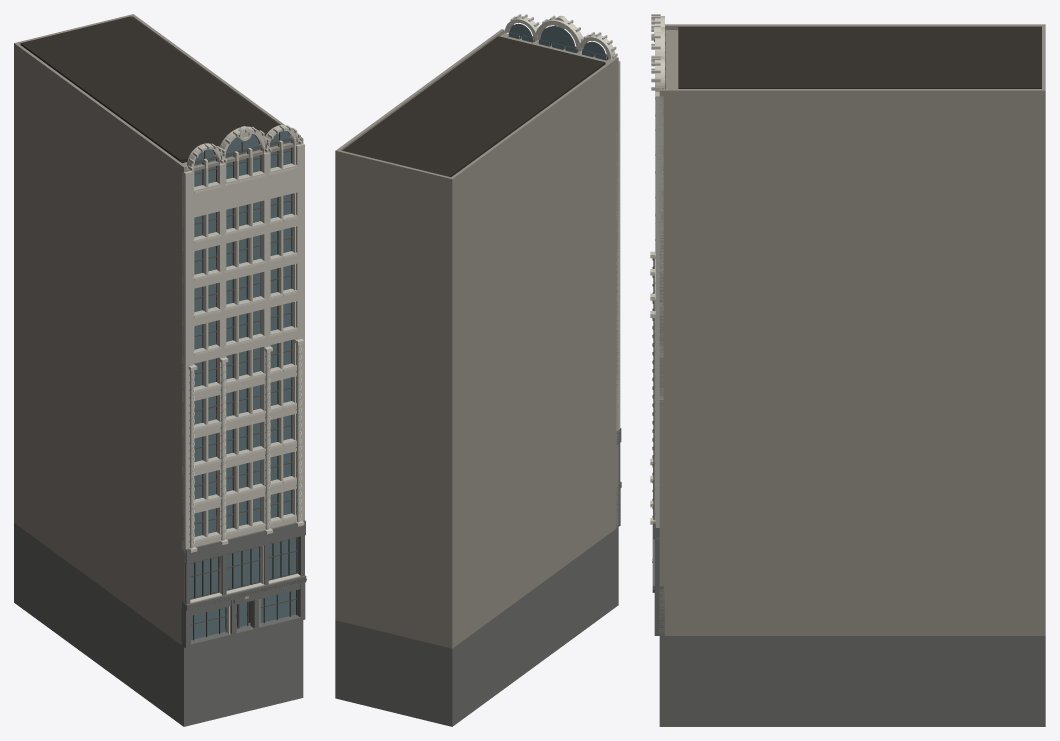
Rendered from equitable.glb.
The picture shows the model from 3 angles, left to right: view 1: azimuth 30°, elevation 25°; view 2: azimuth 150°, elevation 25°; view 3: azimuth 270°, elevation 25°; orthographic projection. The views are drawn at different scales.
Parts seen in each view (by area): view 1: Roof and party masonry, Dark ground level stone, Pale limestone facade and surrounds, Separate recessed window panes, Opaque recessed interior, Carved projecting stone trim, Dark bronze sashes and bank facade; view 2: Roof and party masonry, Dark ground level stone, Opaque recessed interior, Pale limestone facade and surrounds, Separate recessed window panes, Carved projecting stone trim; view 3: Roof and party masonry, Dark ground level stone, Opaque recessed interior, Pale limestone facade and surrounds, Carved projecting stone trim.
Part boxes in pixels (x1,y1,x2,y2): Roof and party masonry: (14,14,303,644); Dark ground level stone: (14,520,306,726); Pale limestone facade and surrounds: (182,125,304,562); Separate recessed window panes: (190,131,296,639); Opaque recessed interior: (20,16,290,628); Carved projecting stone trim: (187,125,304,633); Dark bronze sashes and bank facade: (188,132,306,640); Roof and party masonry: (335,29,618,648); Dark ground level stone: (335,428,621,726); Opaque recessed interior: (342,36,605,177); Pale limestone facade and surrounds: (505,14,620,440); Separate recessed window panes: (508,23,606,60); Carved projecting stone trim: (504,15,615,59); Roof and party masonry: (659,24,1045,635); Dark ground level stone: (652,462,1045,726); Opaque recessed interior: (678,27,1041,88); Pale limestone facade and surrounds: (651,14,663,538); Carved projecting stone trim: (650,16,664,562).
Size of the model in its own units: 12.57 by 58.62 by 31.55.
